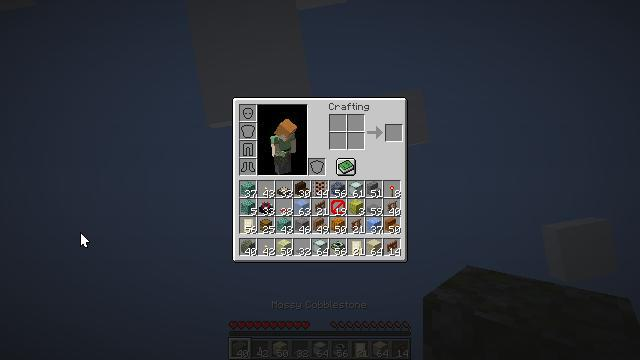cursor: (80, 232, 90, 248)
